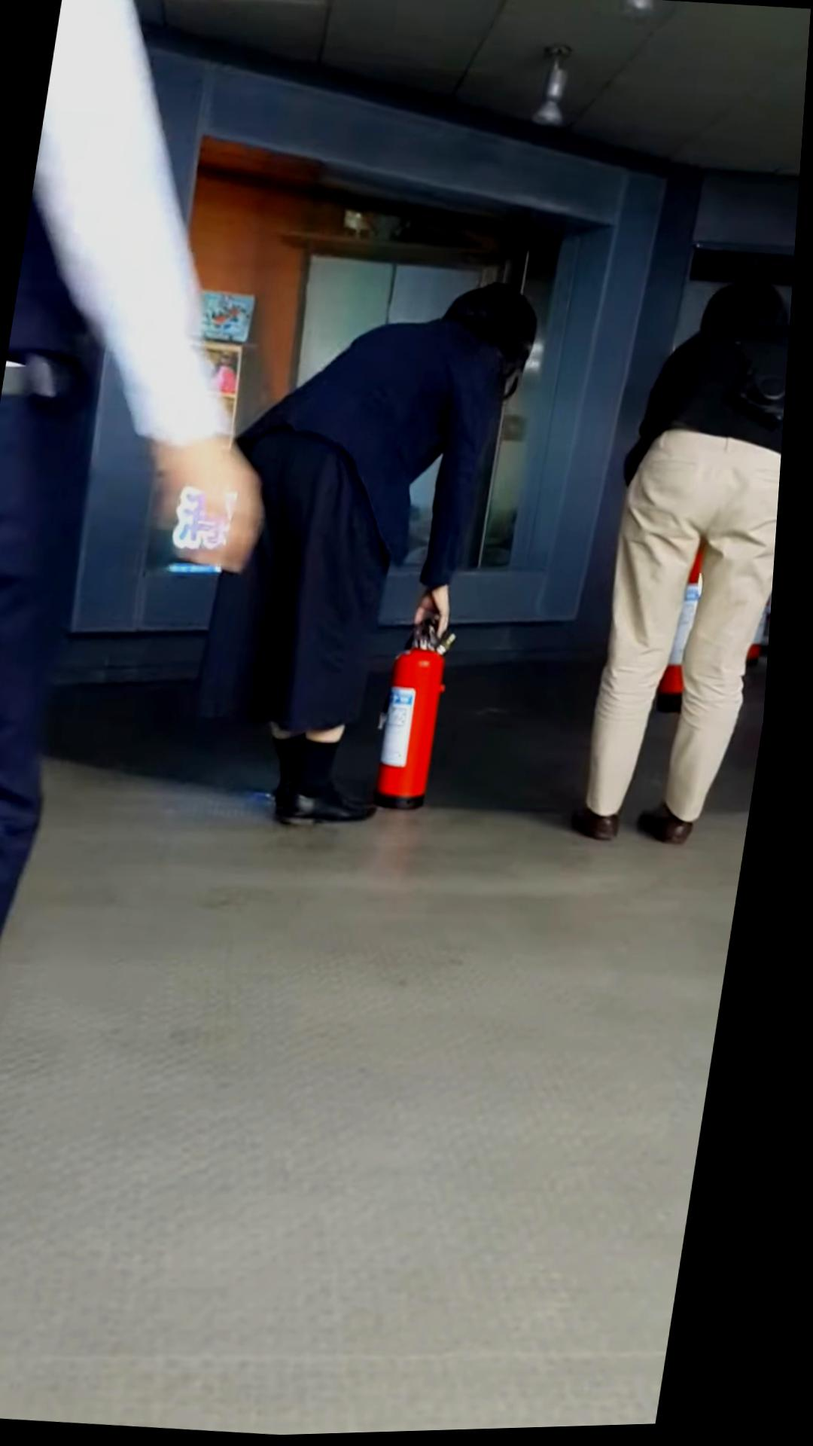FireExtinguisher: (363, 603, 493, 829), (661, 525, 753, 723)
